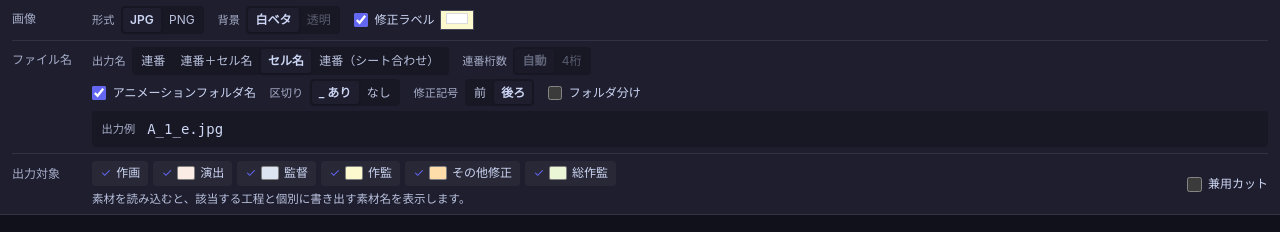
it: ExportSettings naming controls › セル名・フォルダ名付加・区切りありを初期選択し、連番へ切り替えると桁数を選べる
The width and height of the screenshot is (1280, 232).
Expected: the element named "出力例: A_1_e.jpg" is shown, [147,118,223,141]
Click the button "連番（シート合わせ）": (379, 61) [312,49,446,72]
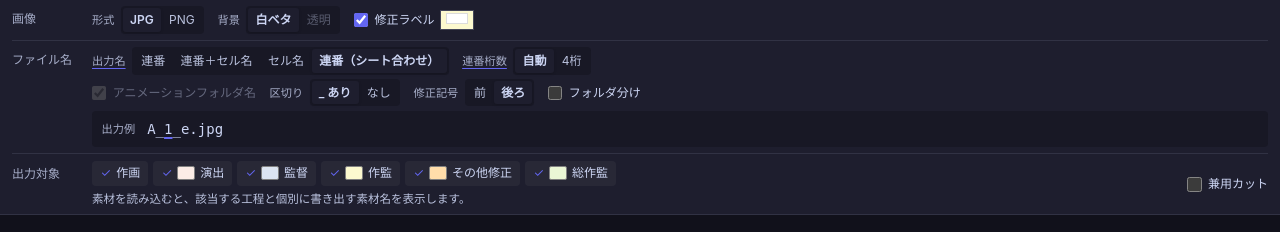
Click the button "4桁": (572, 61) [555,49,589,72]
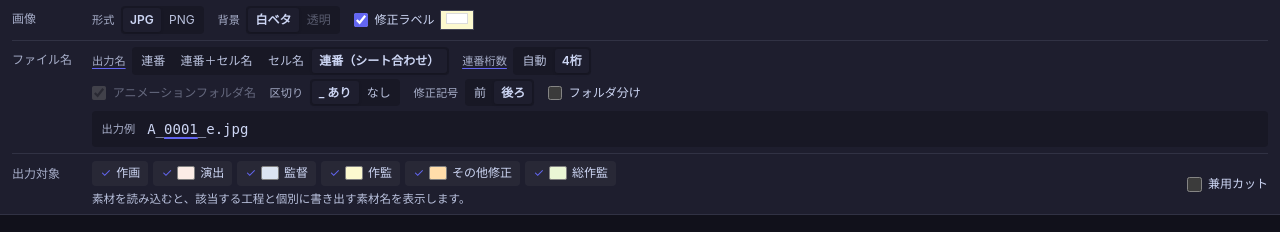
Expected: the element named "出力例: A_0001_e.jpg" is shown, [147,118,248,141]
